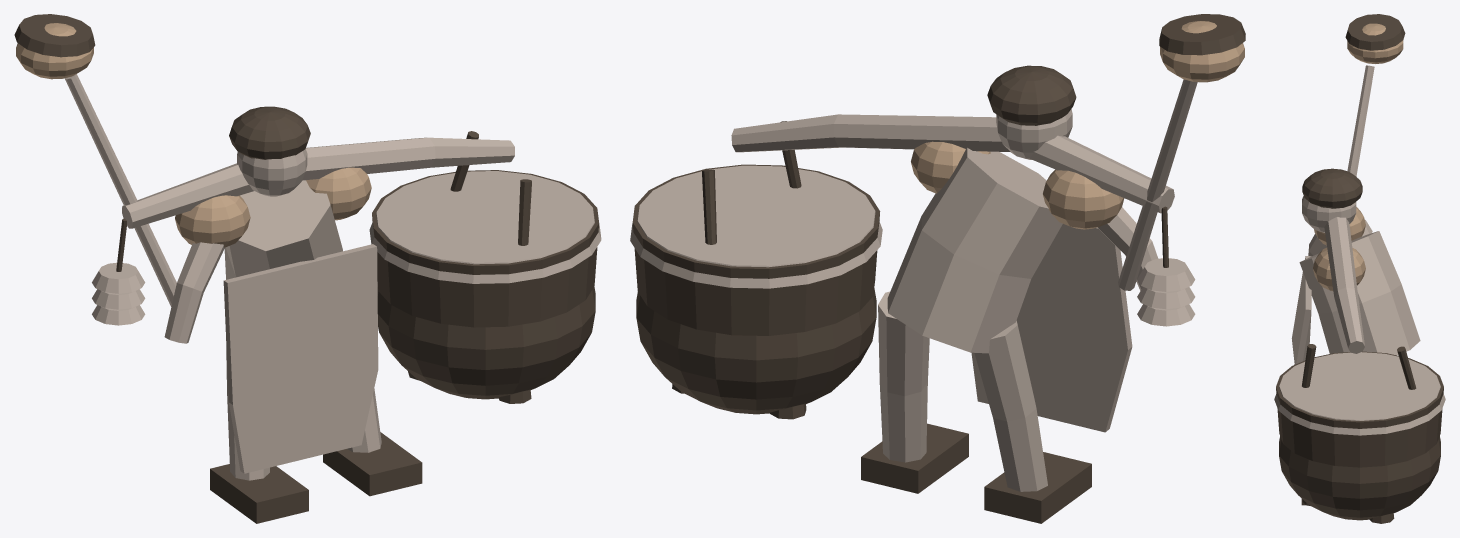
The model's file is cook.glb.
3 views of the same model, side by side, from view 1: azimuth 30°, elevation 25°; view 2: azimuth 150°, elevation 25°; view 3: azimuth 270°, elevation 25° (orthographic). The views are drawn at different scales.
Visible parts, largest first — view 1: cook_bone, cook_dark, cook_body; view 2: cook_bone, cook_dark, cook_body; view 3: cook_bone, cook_dark, cook_body.
Part boxes in pixels (box(x1,y1,x2,y2)): cook_bone: box(64, 74, 601, 480); cook_dark: box(14, 14, 599, 523); cook_body: box(16, 23, 371, 247); cook_bone: box(630, 79, 1197, 491); cook_dark: box(632, 14, 1245, 523); cook_body: box(911, 21, 1244, 229); cook_bone: box(1274, 65, 1445, 435); cook_dark: box(1276, 14, 1443, 523); cook_body: box(1313, 23, 1403, 291).
Size of the model in its own units: 2.39 by 2.05 by 0.87.
